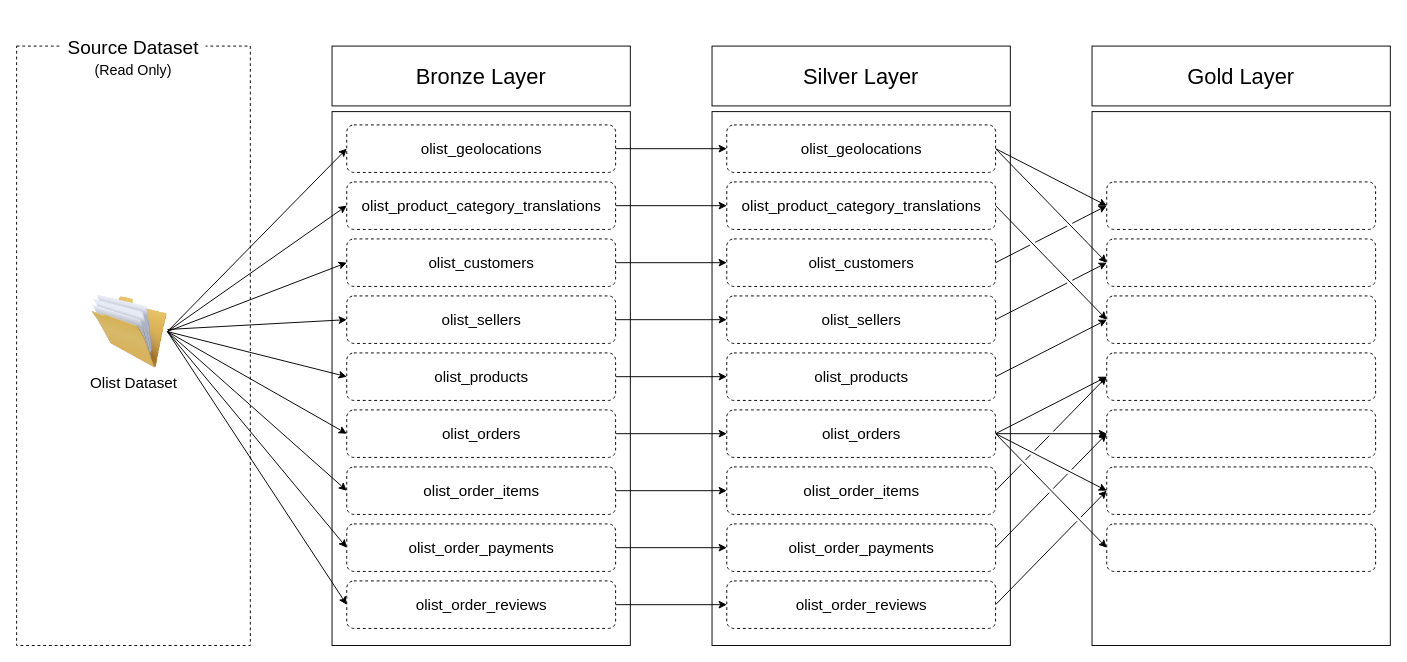
This 1407x662 diagram has some shape labels left out. Each missing label, with the centre of its shape:
"dim_customers" belongs at (1241,205).
"dim_dates" belongs at (1241,547).
"dim_products" belongs at (1241,319).
"dim_sellers" belongs at (1241,262).
"fact_payments" belongs at (1241,433).
"fact_reviews" belongs at (1241,490).
"fact_sales" belongs at (1241,376).
